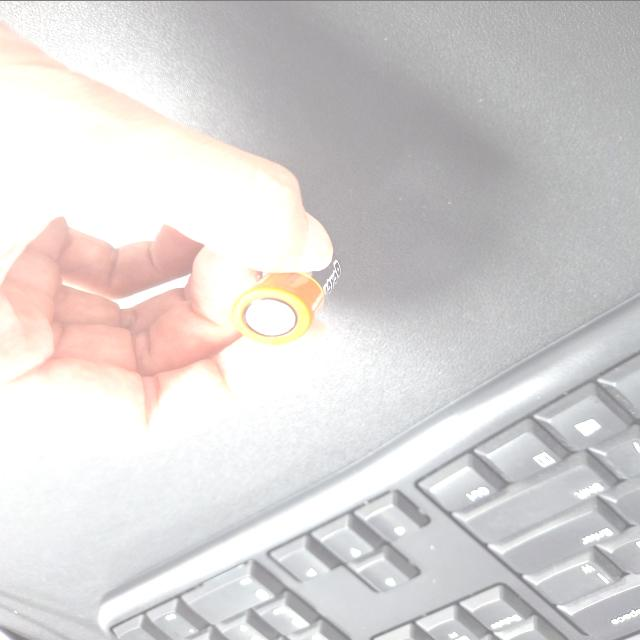AA: (395, 334, 510, 416)
